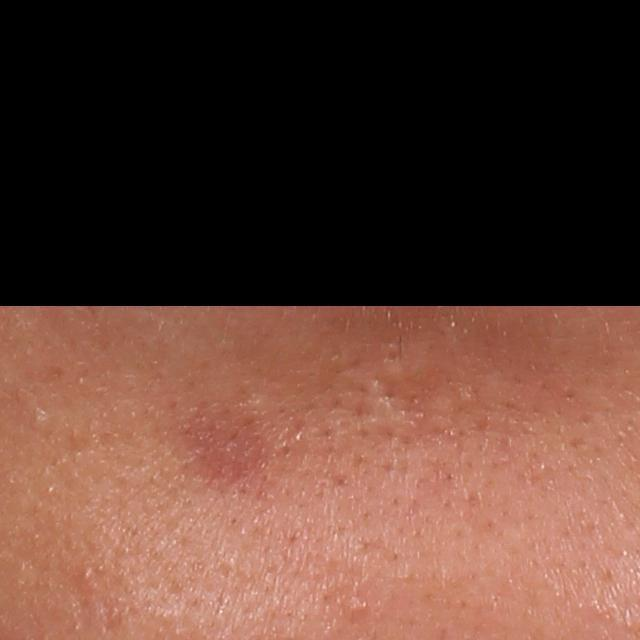comedo: (29, 408, 50, 428)
